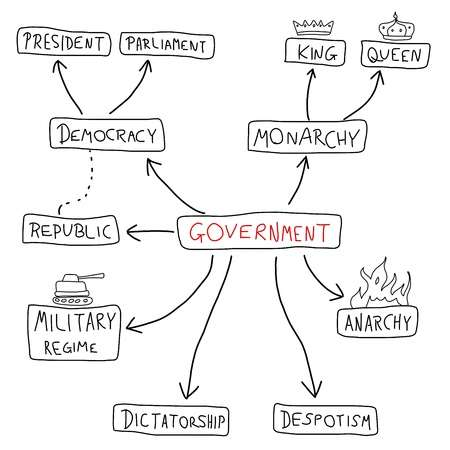line: (178, 255, 234, 400), (272, 255, 325, 400), (125, 254, 216, 333), (144, 157, 204, 214), (296, 254, 353, 301), (110, 59, 154, 112), (342, 68, 386, 121), (50, 59, 87, 115), (286, 155, 311, 205), (125, 222, 176, 243), (304, 69, 319, 120)
square: (24, 303, 124, 365), (248, 118, 371, 156), (269, 400, 381, 440), (104, 393, 225, 429), (20, 212, 125, 247), (12, 23, 114, 57), (118, 29, 220, 62), (335, 305, 421, 340), (283, 36, 347, 68)
